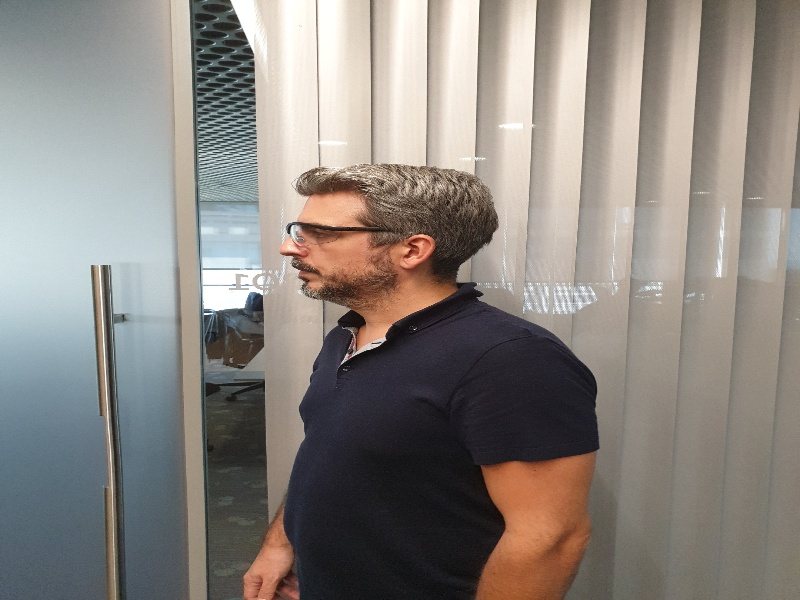Gozluk: (285, 224, 394, 243)
